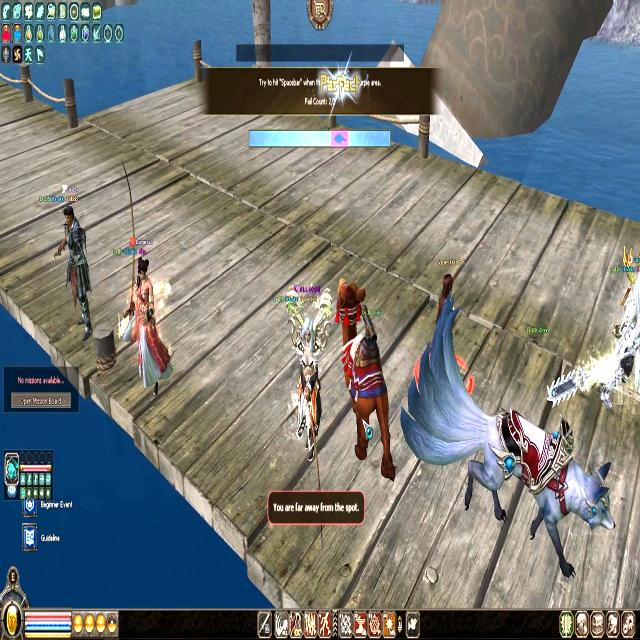fishes: (332, 131, 348, 145)
